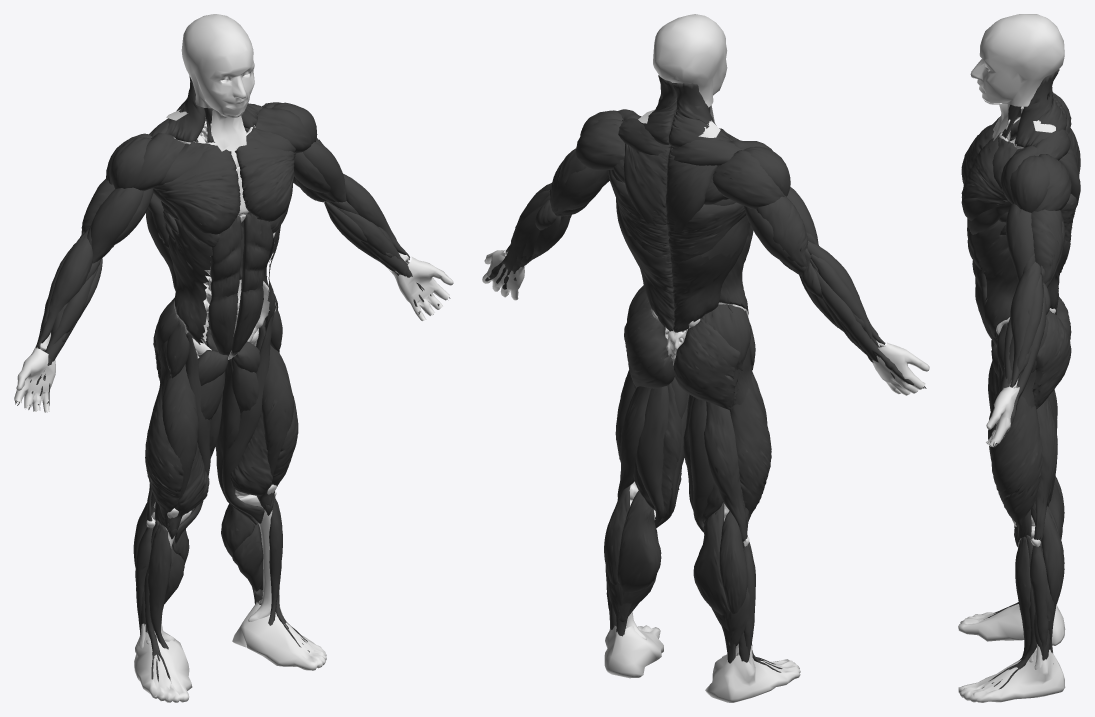
The model's file is corpo-2.glb.
3 renders of one model, left to right at view 1: azimuth 30°, elevation 25°; view 2: azimuth 150°, elevation 25°; view 3: azimuth 270°, elevation 25°, orthographic.
Visible parts, largest first — view 1: pele, deco, peito_medial, quad_reto_femoral, adutores, antebraco_flexores, obliquos, abdomen_supra, quad_vasto_lateral, biceps_longa, quad_vasto_medial, antebraco_braquiorradial (+15 smaller); view 2: pele, panturrilha_gastro, isquio_semitendineo, gluteo_maximo, dorsal_inferior, antebraco_extensores, dorsal_superior, trapezio_inferior, isquio_biceps_femoral, ombro_posterior, quad_vasto_lateral, trapezio_superior (+12 smaller); view 3: pele, deco, quad_vasto_lateral, obliquos, peito_medial, gluteo_maximo, trapezio_superior, isquio_biceps_femoral, panturrilha_gastro, antebraco_extensores, triceps_lateral, antebraco_braquiorradial (+20 smaller).
Part boxes in pixels (<box>): pele: <box>14,14,453,702</box>; deco: <box>135,108,309,681</box>; peito_medial: <box>152,139,295,234</box>; quad_reto_femoral: <box>162,319,293,539</box>; adutores: <box>176,341,260,544</box>; antebraco_flexores: <box>15,200,450,409</box>; obliquos: <box>168,219,280,344</box>; abdomen_supra: <box>210,212,272,297</box>; quad_vasto_lateral: <box>145,384,298,531</box>; biceps_longa: <box>91,140,346,263</box>; quad_vasto_medial: <box>168,411,273,536</box>; antebraco_braquiorradial: <box>37,173,409,348</box>; pele: <box>482,14,929,702</box>; panturrilha_gastro: <box>604,485,747,615</box>; isquio_semitendineo: <box>633,383,723,531</box>; gluteo_maximo: <box>624,306,740,410</box>; dorsal_inferior: <box>620,227,742,332</box>; antebraco_extensores: <box>485,190,924,388</box>; dorsal_superior: <box>608,170,750,259</box>; trapezio_inferior: <box>623,143,718,232</box>; isquio_biceps_femoral: <box>617,386,747,541</box>; ombro_posterior: <box>575,119,784,208</box>; quad_vasto_lateral: <box>615,369,771,521</box>; trapezio_superior: <box>638,75,731,147</box>; pele: <box>958,14,1065,702</box>; deco: <box>982,104,1053,689</box>; quad_vasto_lateral: <box>991,396,1042,541</box>; obliquos: <box>972,220,1018,340</box>; peito_medial: <box>961,122,1012,220</box>; gluteo_maximo: <box>1032,297,1071,409</box>; trapezio_superior: <box>1014,69,1066,147</box>; isquio_biceps_femoral: <box>1031,389,1057,541</box>; panturrilha_gastro: <box>1042,476,1064,606</box>; antebraco_extensores: <box>995,274,1050,444</box>; triceps_lateral: <box>1031,209,1063,284</box>; antebraco_braquiorradial: <box>1010,261,1041,387</box>.
Bounding box in the file's own units: 1.17 × 1.65 × 0.2829.
Materials: 1 (1 with a texture image).
